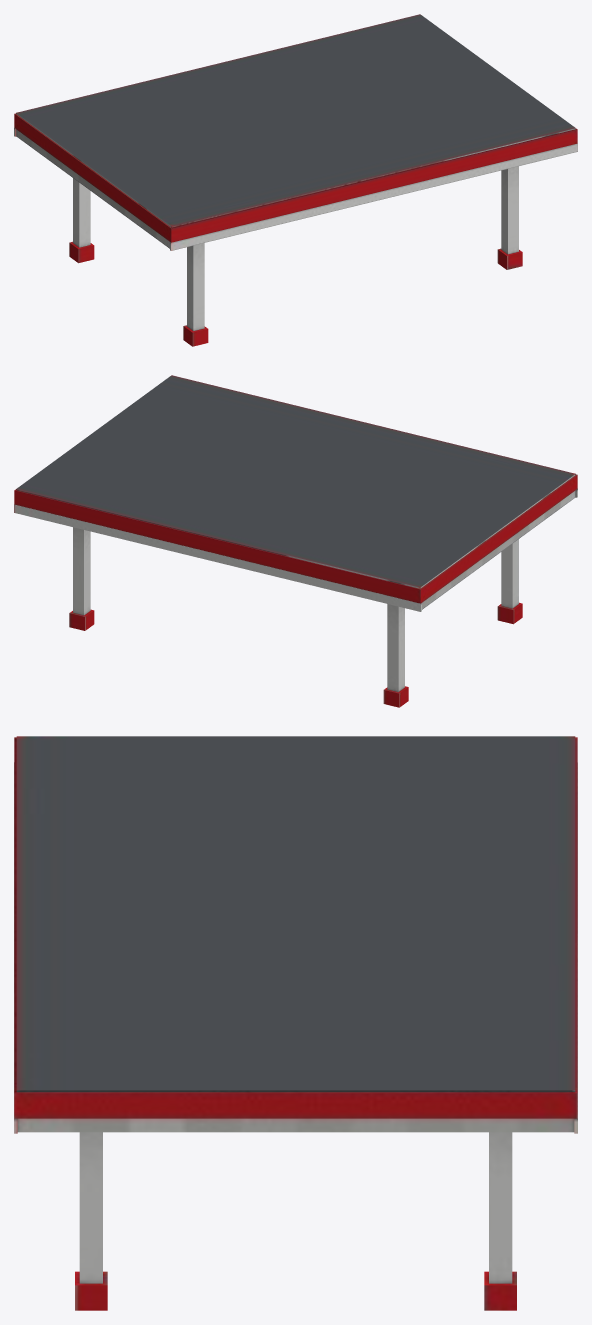
The model's file is orlen_wiata.glb.
The picture shows the model from 3 angles, top to bottom: view 1: azimuth 30°, elevation 25°; view 2: azimuth 150°, elevation 25°; view 3: azimuth 270°, elevation 25°; orthographic projection. The views are drawn at different scales.
Parts seen in each view (by area): view 1: orlen_wiata; view 2: orlen_wiata; view 3: orlen_wiata.
Part boxes in pixels (x1=…): orlen_wiata: x1=14, y1=14, x2=577, y2=346; orlen_wiata: x1=14, y1=375, x2=577, y2=707; orlen_wiata: x1=14, y1=736, x2=577, y2=1310.
Bounding box in the file's own units: 18.12 × 6 × 12.12.
1 material, 1 textured.
